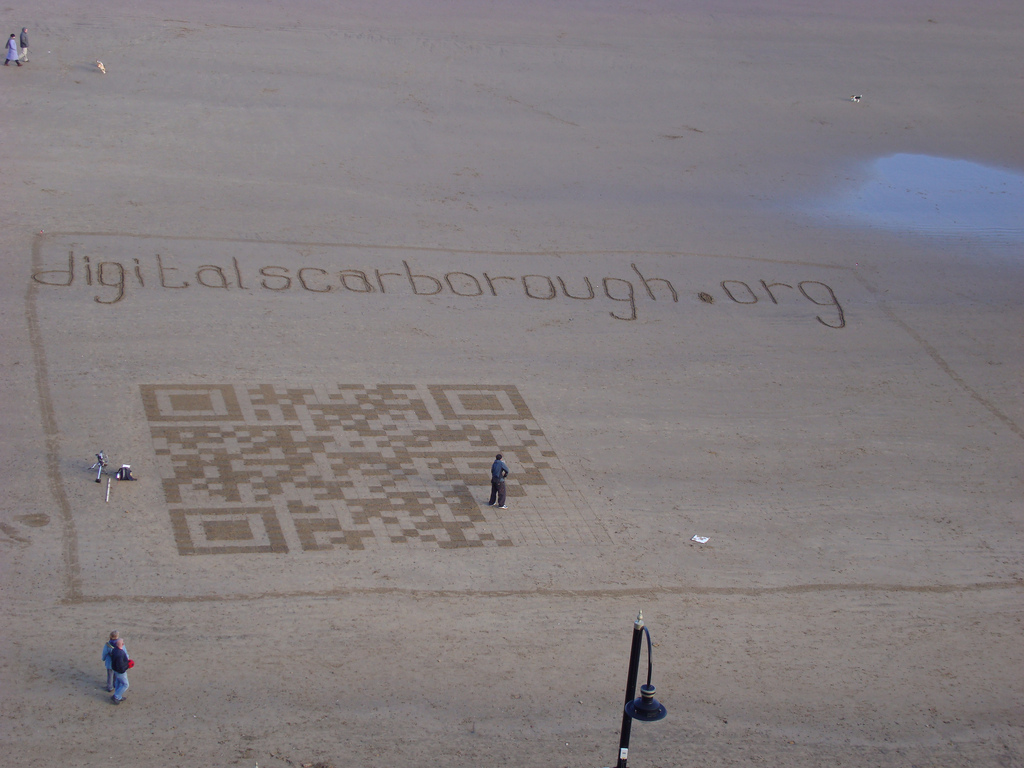QR-CODE: (138, 384, 614, 555)
